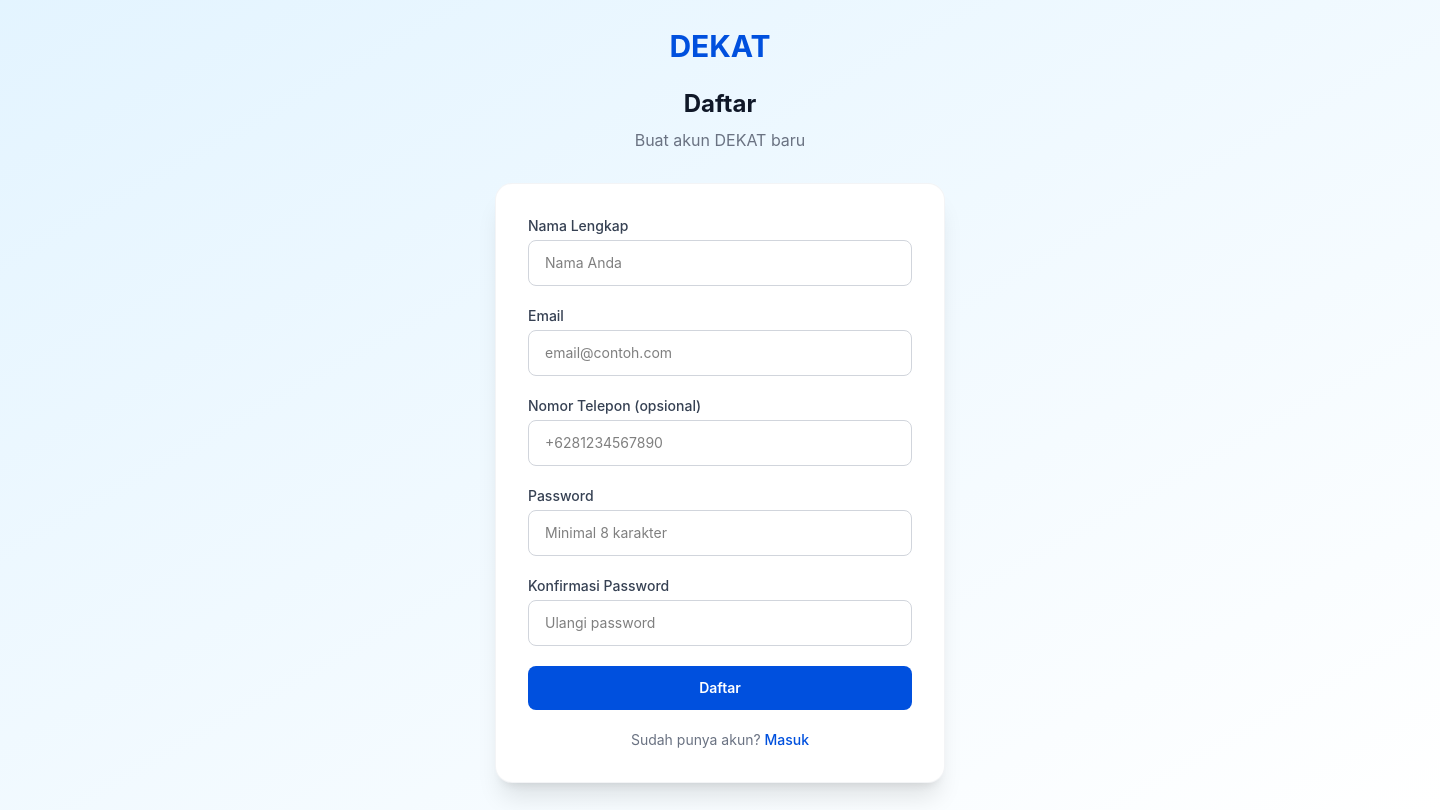
Test: RegisterPage › validates empty name shows min 2 chars error
The width and height of the screenshot is (1440, 810).
Click the button "Daftar": x=720, y=688 [528, 666, 912, 710]
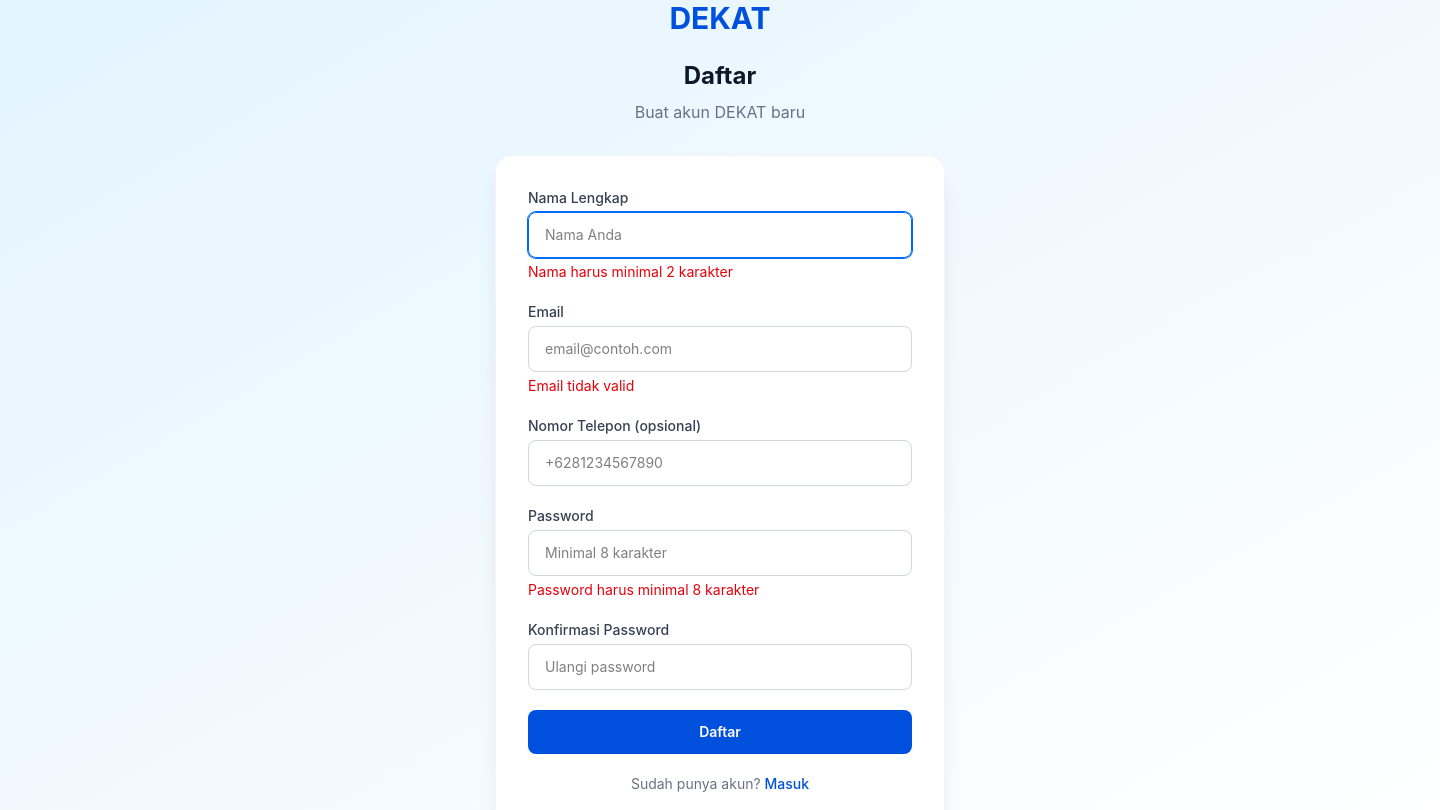
Expected: the text "Nama harus minimal 2 karakter" is shown, [528, 263, 733, 280]
